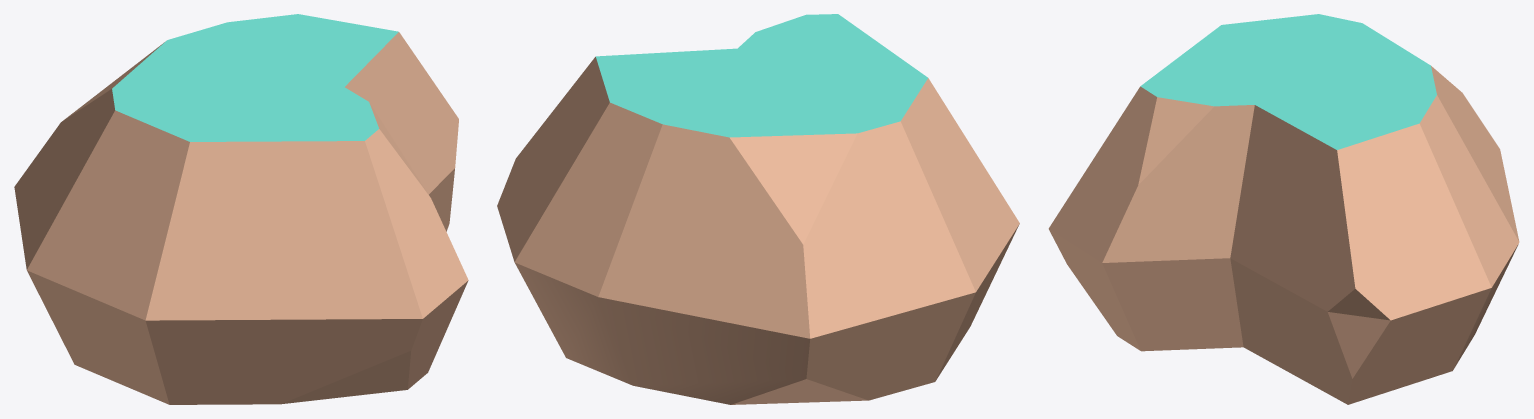
Rendered from rock_largeD.glb.
3 views of the same model, side by side, from view 1: azimuth 30°, elevation 25°; view 2: azimuth 150°, elevation 25°; view 3: azimuth 270°, elevation 25° (orthographic). The views are drawn at different scales.
Visible parts, largest first — view 1: rock_largeD; view 2: rock_largeD; view 3: rock_largeD.
Boxes of the visible parts, bbox=[...] form: rock_largeD: bbox=[14, 14, 468, 404]; rock_largeD: bbox=[497, 14, 1019, 404]; rock_largeD: bbox=[1048, 14, 1519, 404].
Size of the model in its own units: 1.07 by 0.5683 by 1.03.
Materials: 1 (1 with a texture image).
